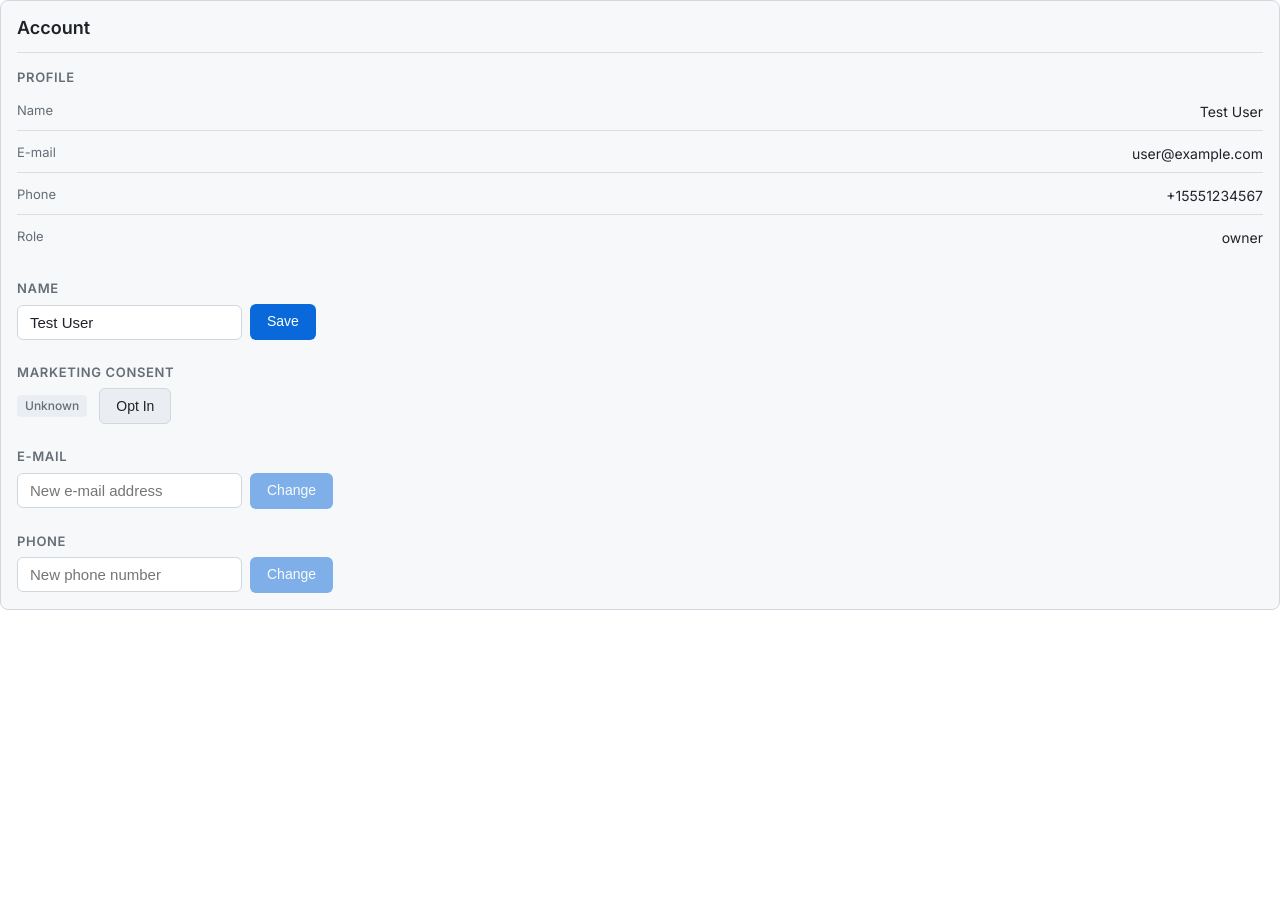
Scenario: AccountCard › with experimental writes enabled › renders the account-identity note on a 403 account_identity_disabled response
Type "new@example.com" into the field with placeholder "New e-mail address" at point(130, 490), box [17,473,242,508]
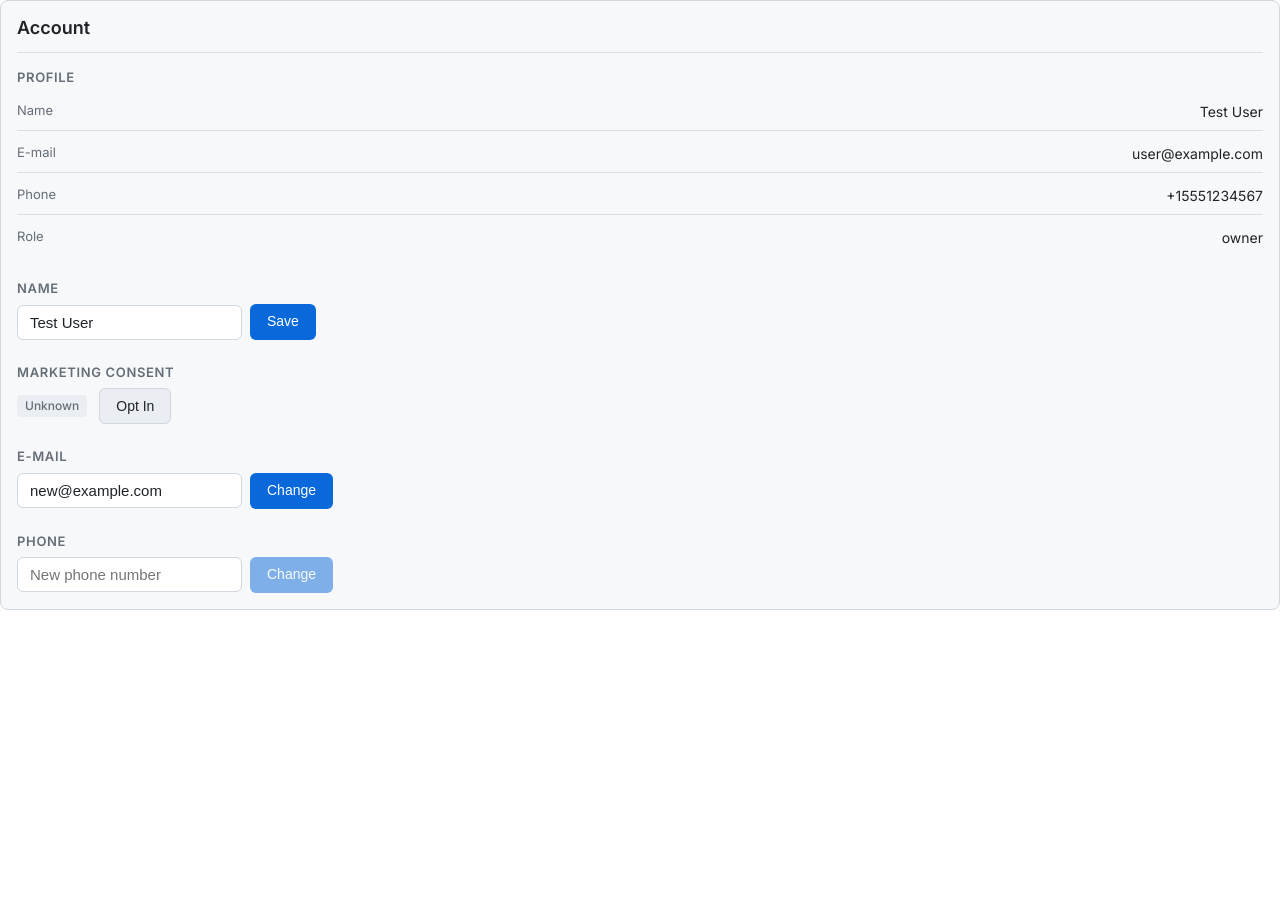
Click the button with aria-label "Change e-mail" at point(292, 490), box [250,472,333,508]
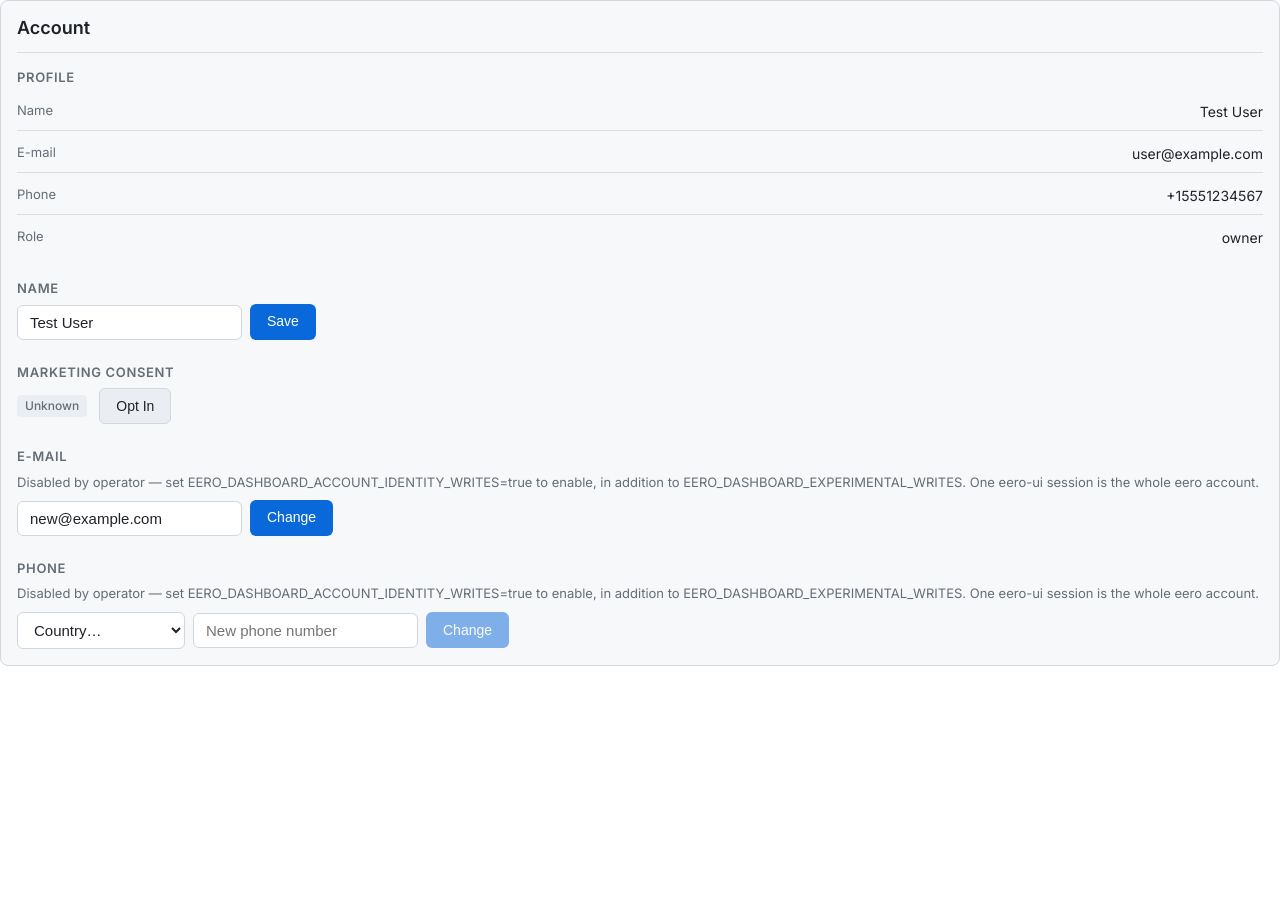
Expected: the 1st text "EERO_DASHBOARD_ACCOUNT_IDENTITY_WRITES" is shown, [17,474,1259,490]
